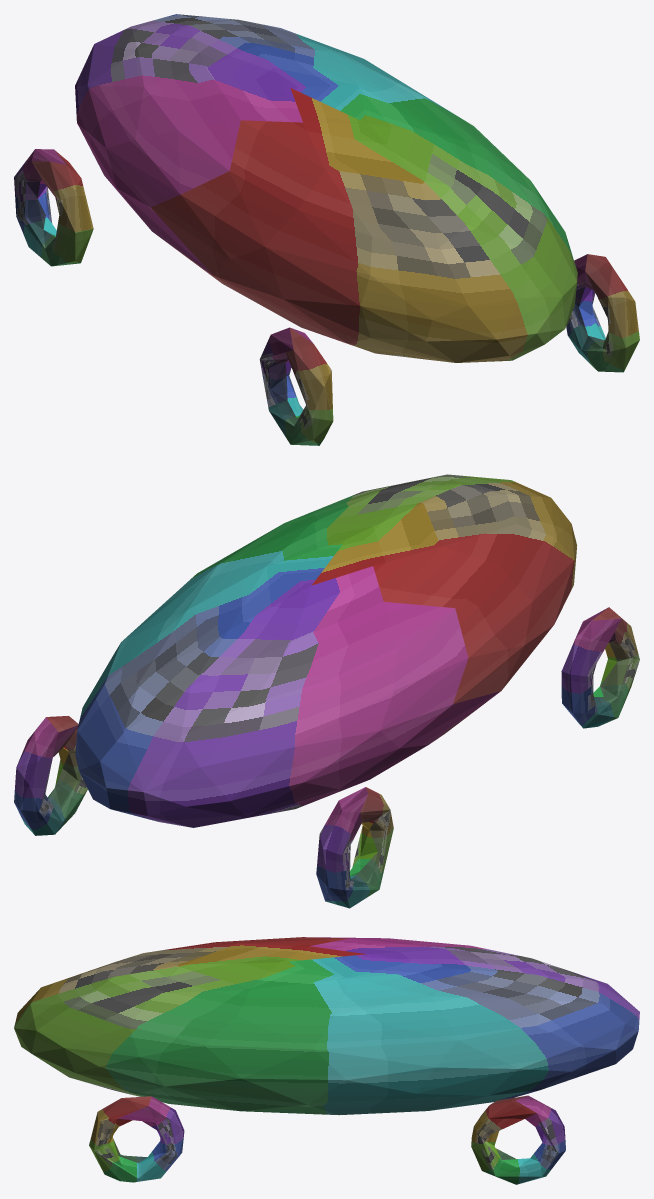
Rendered from lod-pipeline-fixture-lod2.glb.
The picture shows the model from 3 angles, top to bottom: view 1: azimuth 30°, elevation 25°; view 2: azimuth 150°, elevation 25°; view 3: azimuth 270°, elevation 25°; orthographic projection. The views are drawn at different scales.
Visible parts, largest first — view 1: Traffic_body, Traffic_RL, Traffic_FL, Traffic_FR; view 2: Traffic_body, Traffic_RL, Traffic_FL, Traffic_RR; view 3: Traffic_body, Traffic_FR, Traffic_RR.
Part boxes in pixels (x1=…): Traffic_body: x1=75, y1=14, x2=577, y2=362; Traffic_RL: x1=14, y1=149, x2=93, y2=266; Traffic_FL: x1=259, y1=327, x2=333, y2=445; Traffic_FR: x1=566, y1=254, x2=639, y2=372; Traffic_body: x1=75, y1=474, x2=577, y2=827; Traffic_RL: x1=316, y1=787, x2=393, y2=908; Traffic_FL: x1=561, y1=607, x2=639, y2=728; Traffic_RR: x1=14, y1=716, x2=87, y2=835; Traffic_body: x1=14, y1=937, x2=639, y2=1115; Traffic_FR: x1=89, y1=1096, x2=184, y2=1182; Traffic_RR: x1=471, y1=1095, x2=565, y2=1184.
Size of the model in its own units: 2.18 by 1.35 by 4.59.
Materials: 1 (1 with a texture image).
